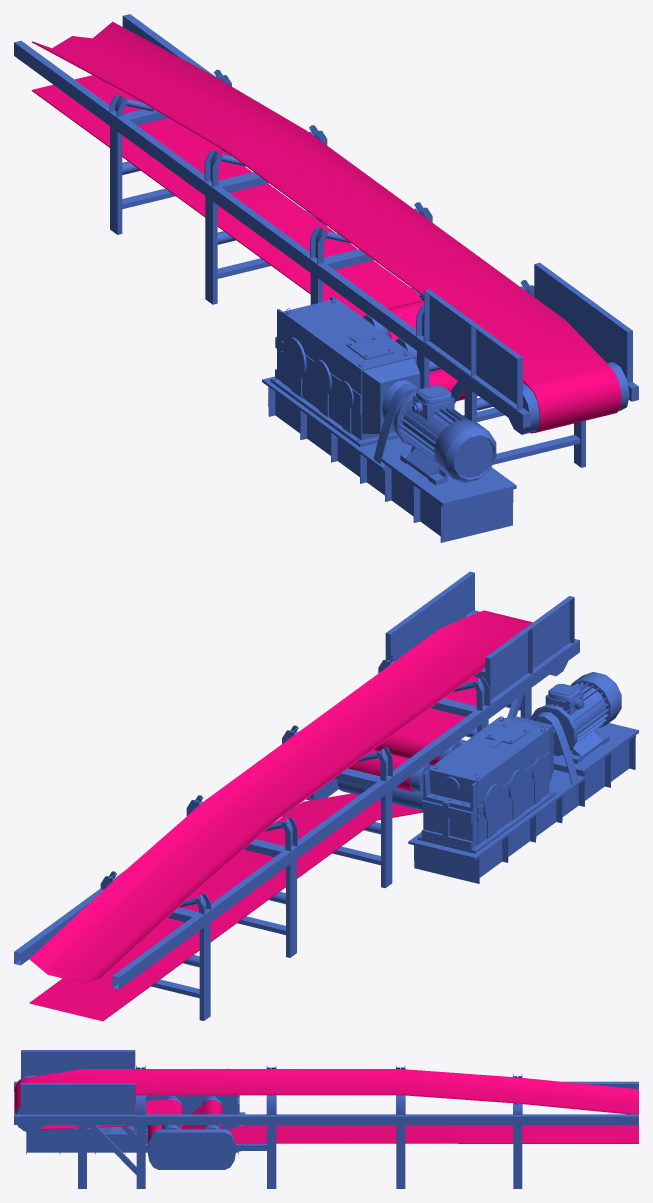
The model's file is PiDaiJiB.fbx.
3 views of the same model, one above another, from view 1: azimuth 30°, elevation 25°; view 2: azimuth 150°, elevation 25°; view 3: azimuth 270°, elevation 25° (orthographic). The views are drawn at different scales.
Visible parts, largest first — view 1: PiDaiJiB_LOD00; view 2: PiDaiJiB_LOD00; view 3: PiDaiJiB_LOD00.
Boxes of the visible parts, box(x1,y1,x2,y2) form: PiDaiJiB_LOD00: box(14, 14, 638, 542); PiDaiJiB_LOD00: box(14, 571, 638, 1021); PiDaiJiB_LOD00: box(14, 1050, 638, 1188).
Size of what is drawn, in the model's own units: 196 by 160 by 870.
